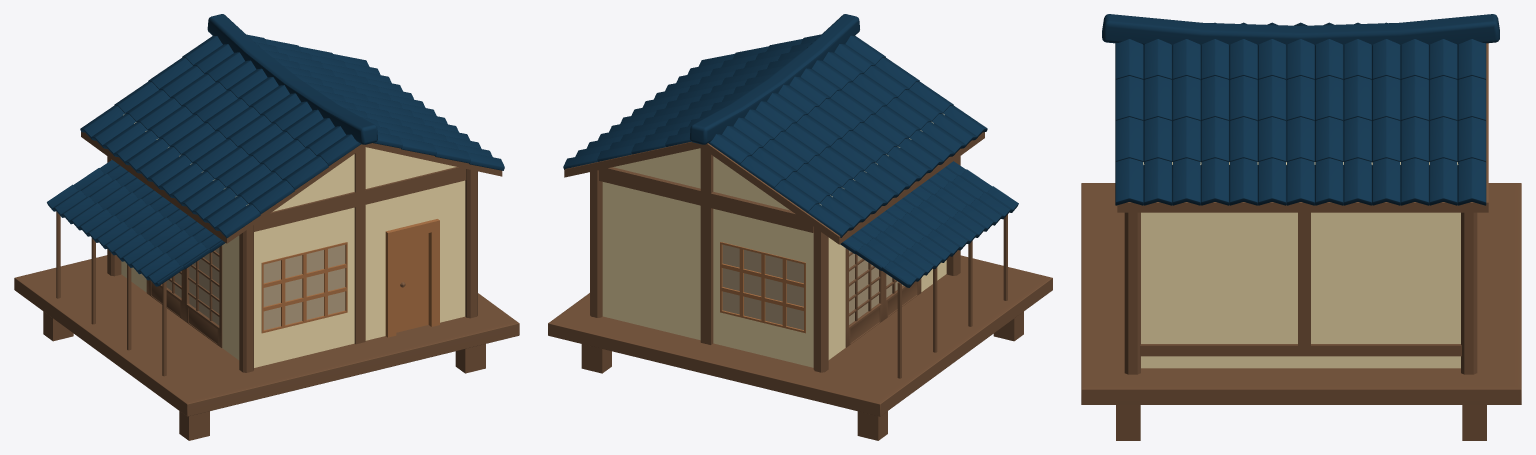
Rendered from House_2.fbx.
3 renders of one model, left to right at view 1: azimuth 30°, elevation 25°; view 2: azimuth 150°, elevation 25°; view 3: azimuth 270°, elevation 25°, orthographic. The views are drawn at different scales.
Parts seen in each view (by area): view 1: House_2; view 2: House_2; view 3: House_2.
Boxes of the visible parts, left/top/right/bottom form: House_2: left=14, top=14, right=519, bottom=440; House_2: left=548, top=14, right=1052, bottom=440; House_2: left=1081, top=14, right=1521, bottom=440.
Size of the model in its own units: 7526 by 5922 by 6780.
